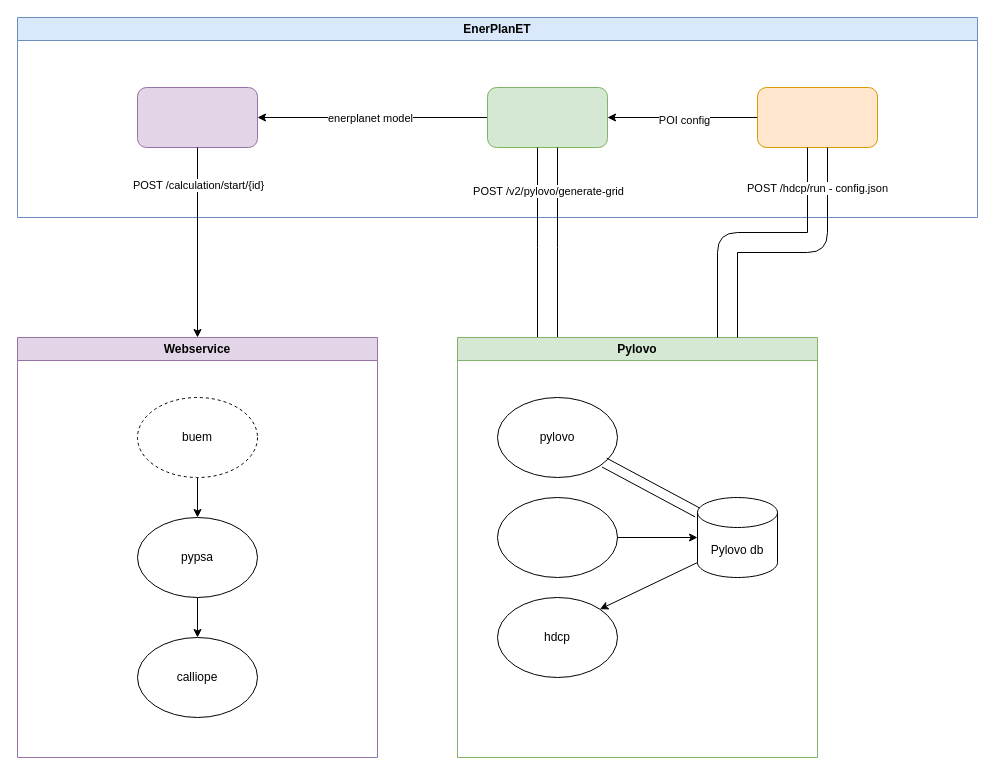
The diagram is 995 pixels wide and 775 high, and some of its shapes have lost their labels. The shapes that lost their labels are listed below. From the top down, each one's centre as x and y in pixels, then its label:
At point (197, 117): "Model dashboard".
At point (547, 117): "Modelling area".
At point (817, 117): "Building configurator".
At point (557, 537): "city2tabula".
